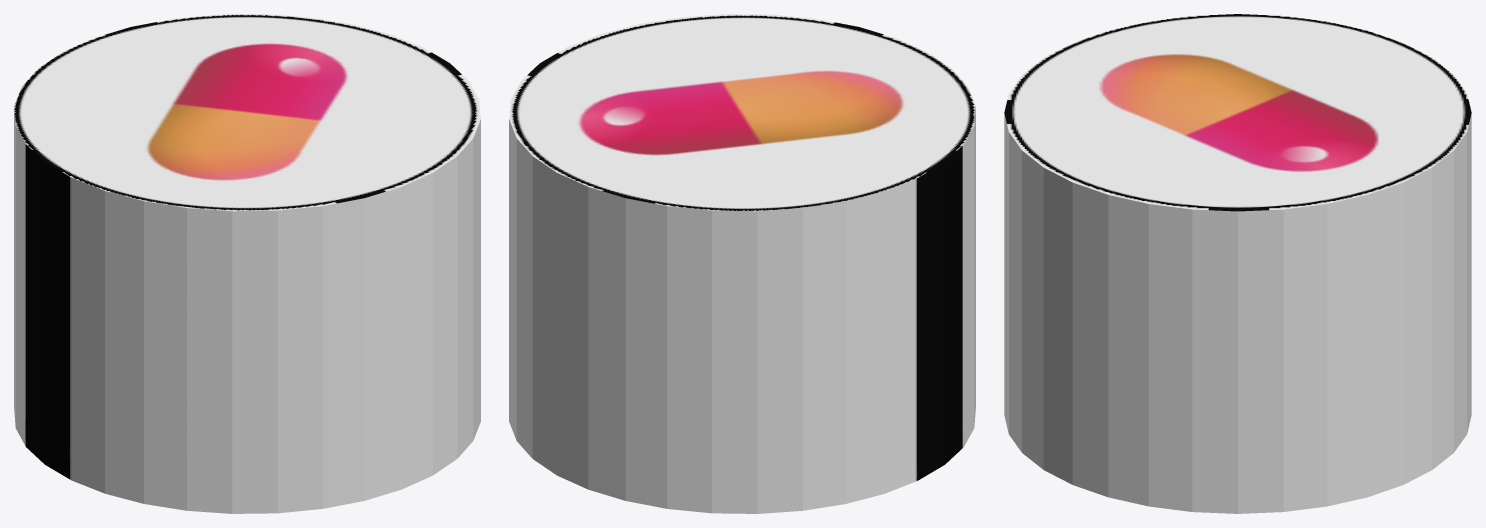
File: capsule_pickup_obj.glb
3 renders of one model, left to right at view 1: azimuth 30°, elevation 25°; view 2: azimuth 150°, elevation 25°; view 3: azimuth 270°, elevation 25°, orthographic.
Parts seen in each view (by area): view 1: Cylinder.001; view 2: Cylinder.001; view 3: Cylinder.001.
Part boxes in pixels (bbox=[...]): Cylinder.001: bbox=[14, 14, 480, 513]; Cylinder.001: bbox=[509, 14, 975, 513]; Cylinder.001: bbox=[1004, 14, 1471, 513].
Bounding box in the file's own units: 0.14 × 0.1 × 0.14.
Materials: 1 (1 with a texture image).
